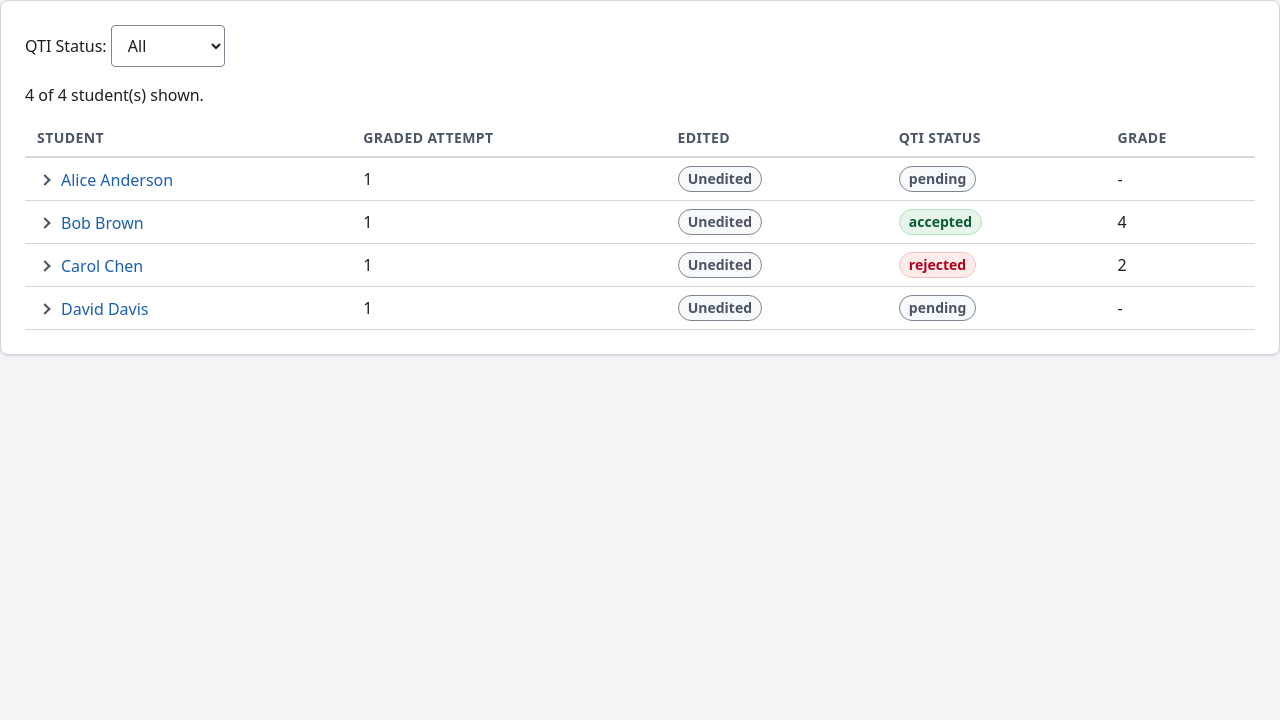
Test: Queue › expands a row to show the review fields when clicked, and collapses it when clicked again
Expected: the field labelled "stem" is not shown
What coordinates should you click on to do the following:
click the button "Bob Brown"
I would click on:
 (90, 223)
Its box is x1=37 y1=211 x2=144 y2=235.
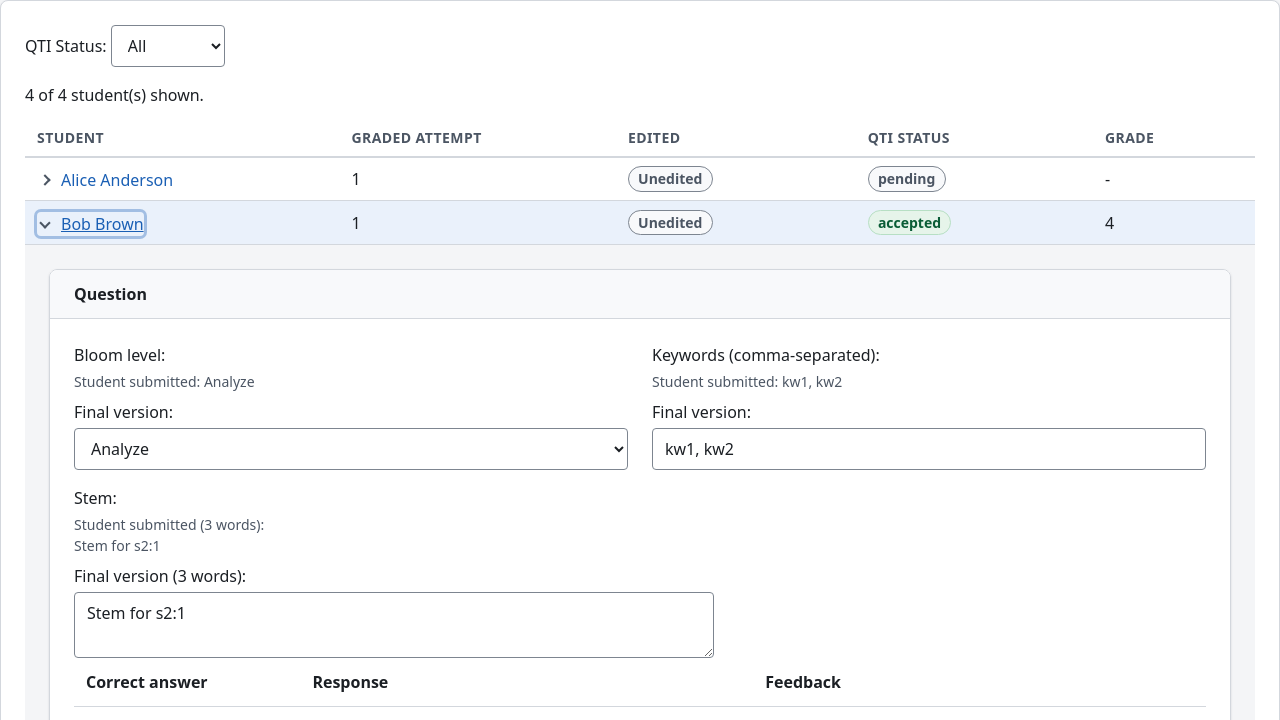
Now the text box labelled "Stem:" holds "Stem for s2:1", box x1=74 y1=592 x2=714 y2=658
What coordinates should you click on to do the following:
click the button "Bob Brown"
I would click on:
 (90, 224)
Its box is x1=37 y1=212 x2=144 y2=236.
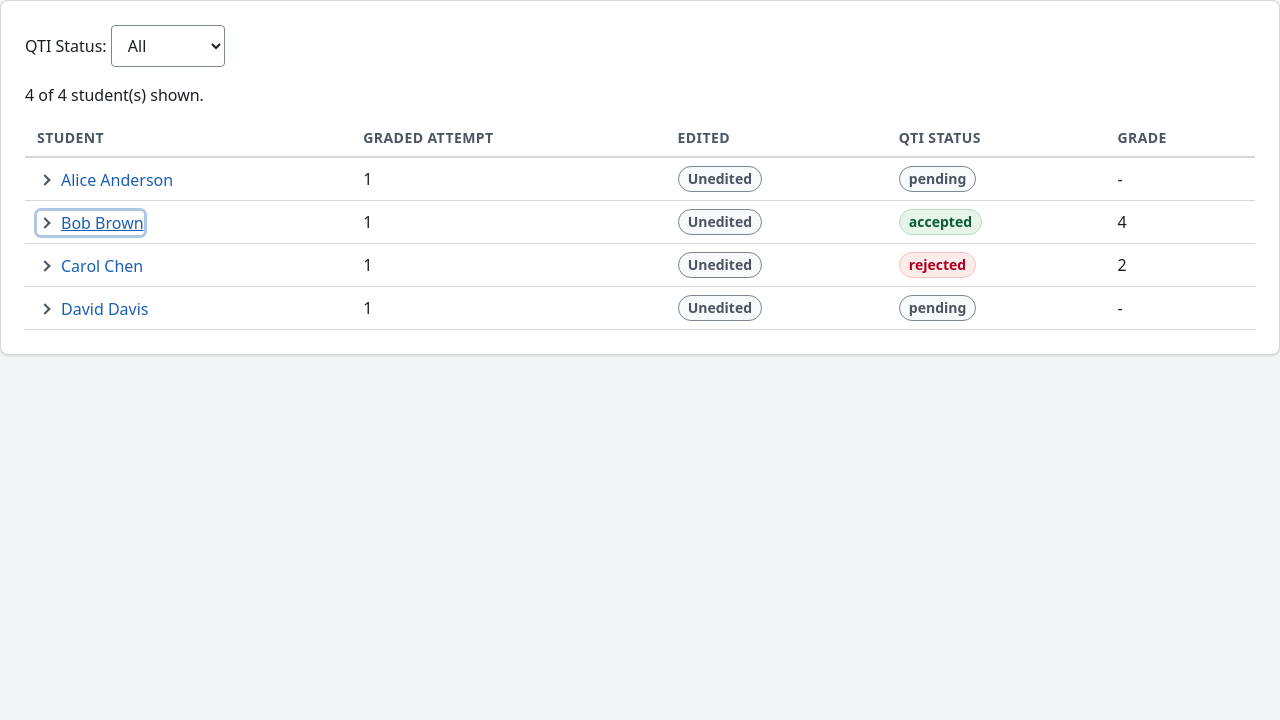
Now the label labelled "Stem" is gone
